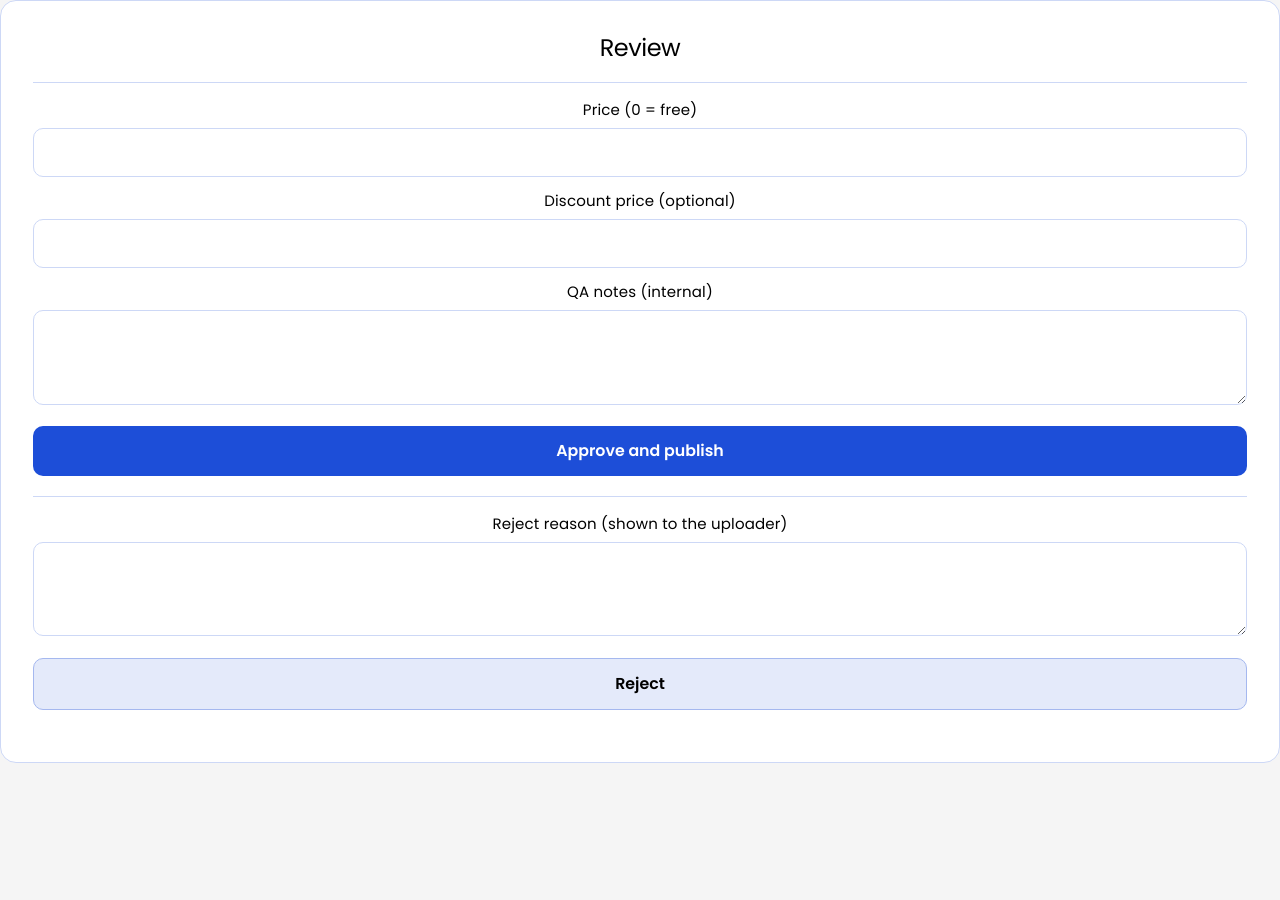
Test: PluginReviewPanel › will not reject without a reason
Click the button "Reject" at (640, 684), box [33,658,1247,710]
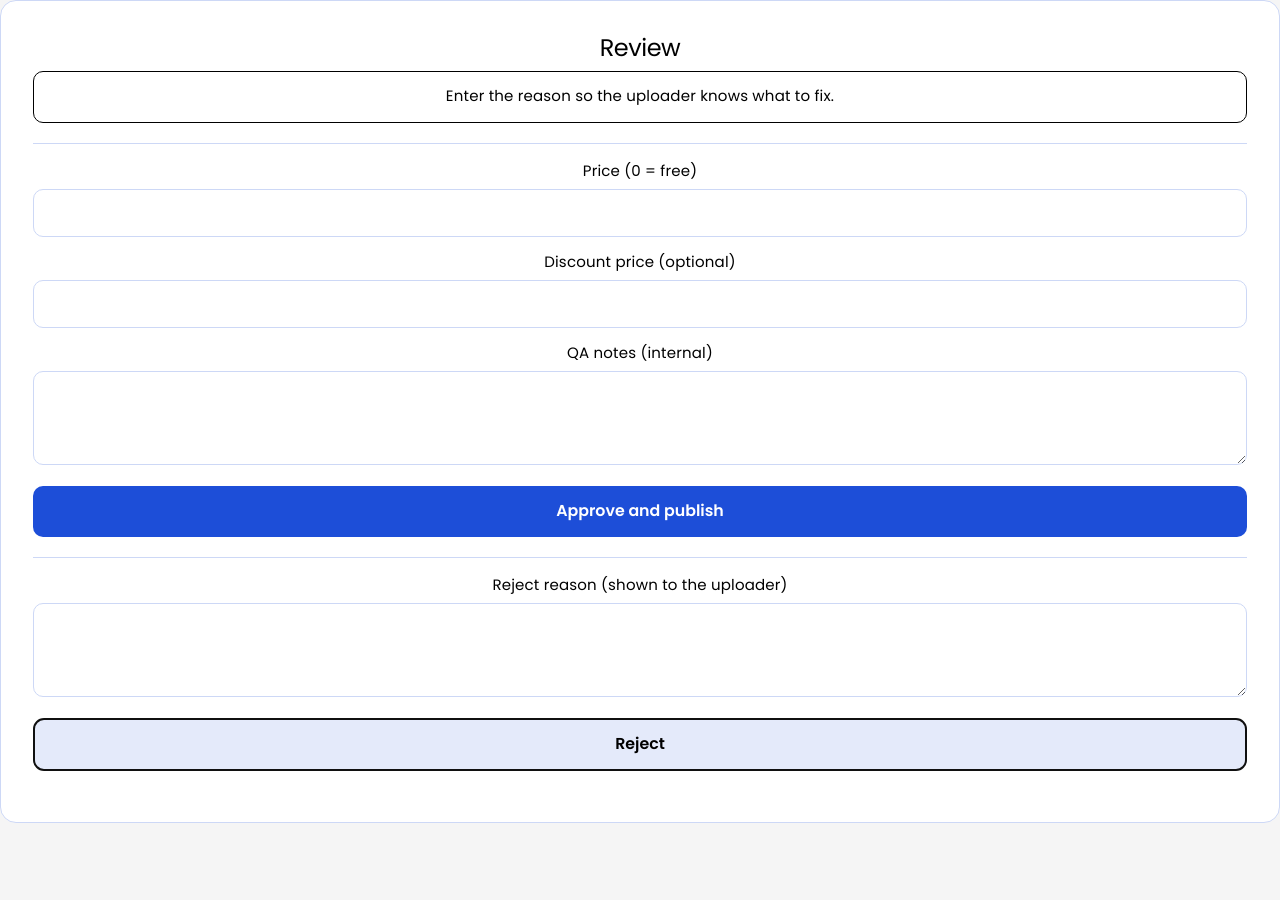
Expected: the text "Enter the reason so the uploader knows what to fix." is shown, [33,71,1247,123]
